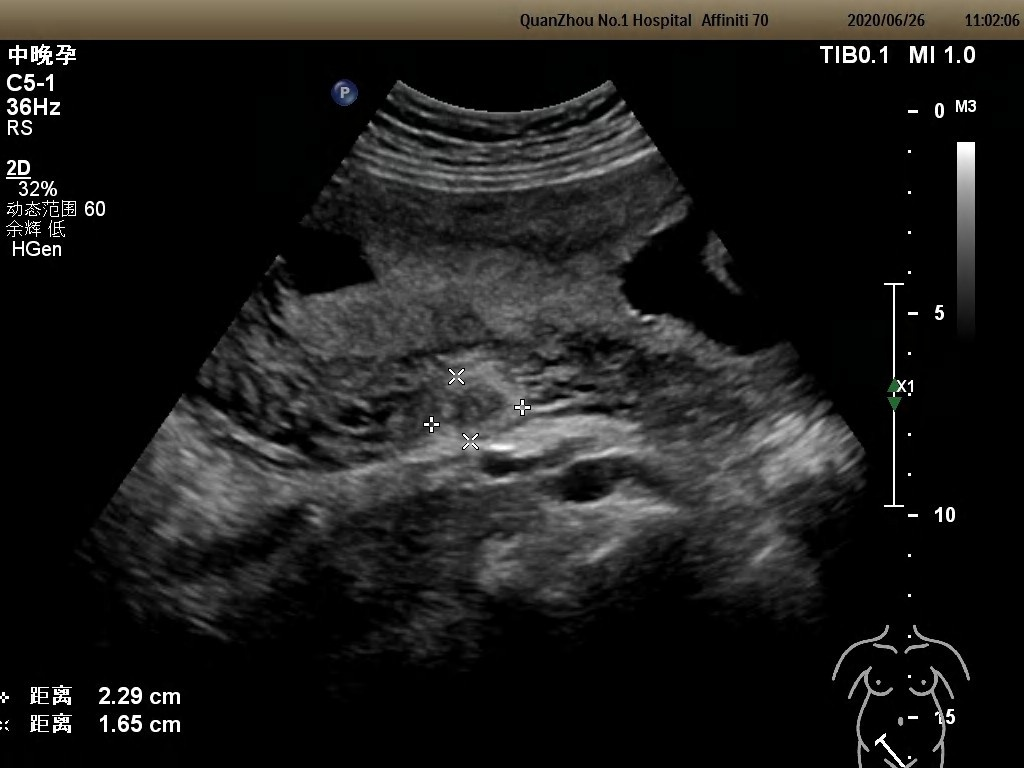肌瘤: (438, 387, 499, 428)
